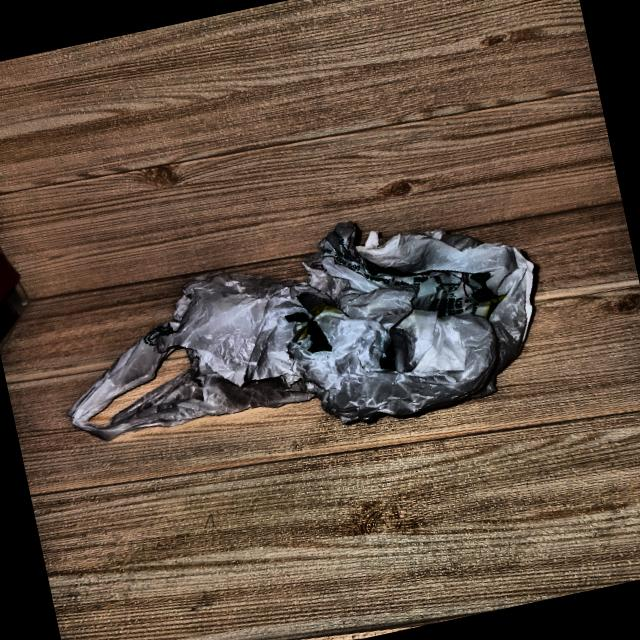plastic bag: (39, 174, 574, 496)
